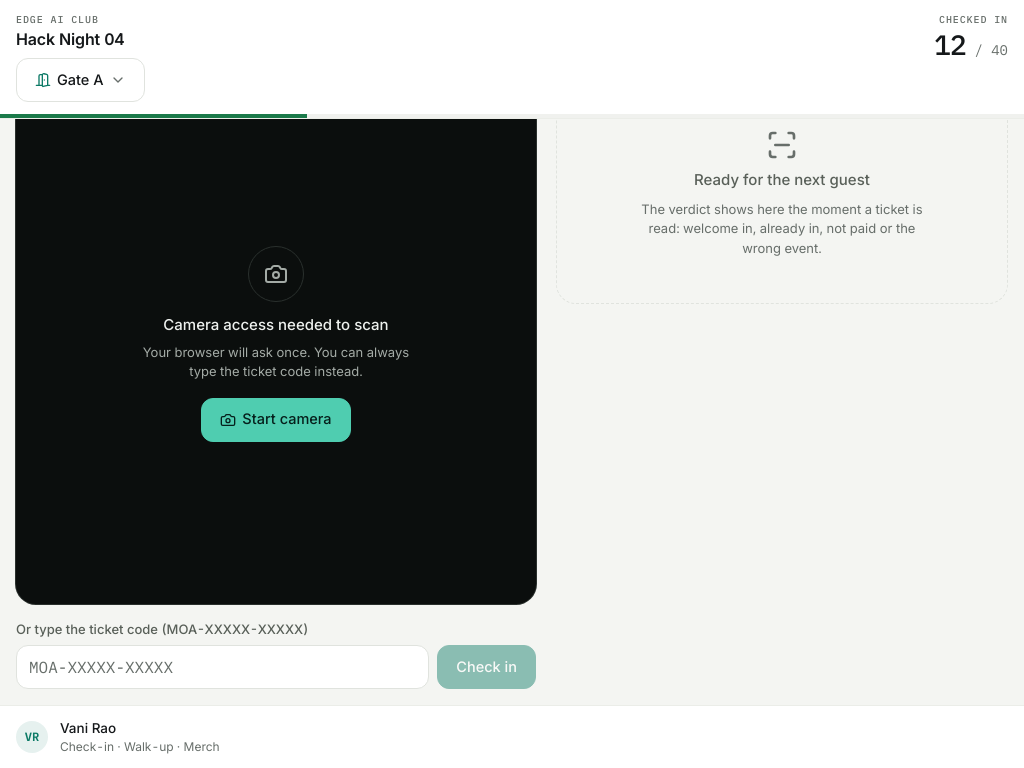
Test case: collecting a guest's number at the door › asks after the admission, without blocking it, when the event wants a number
(page scrolled)
Type "MOA-1" into the field labelled "Or type the ticket code (MOA-XXXXX-XXXXX)" at (223, 667), box [16,645,429,689]
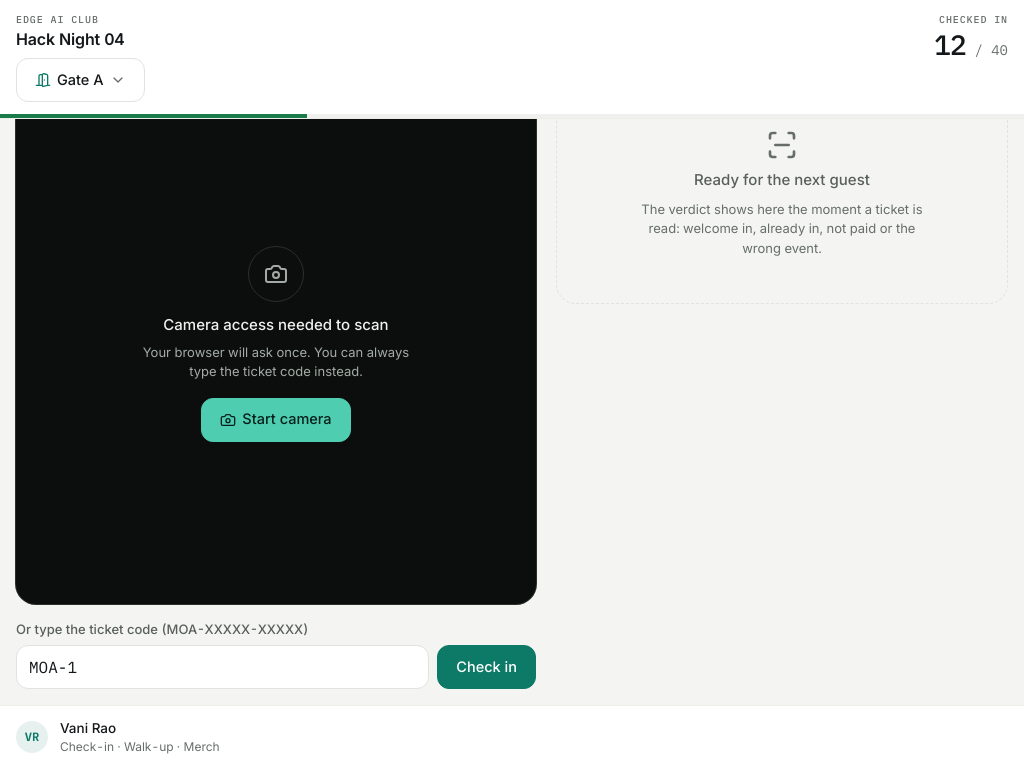
Click the button "Check in" at (487, 667), box [437,645,536,689]
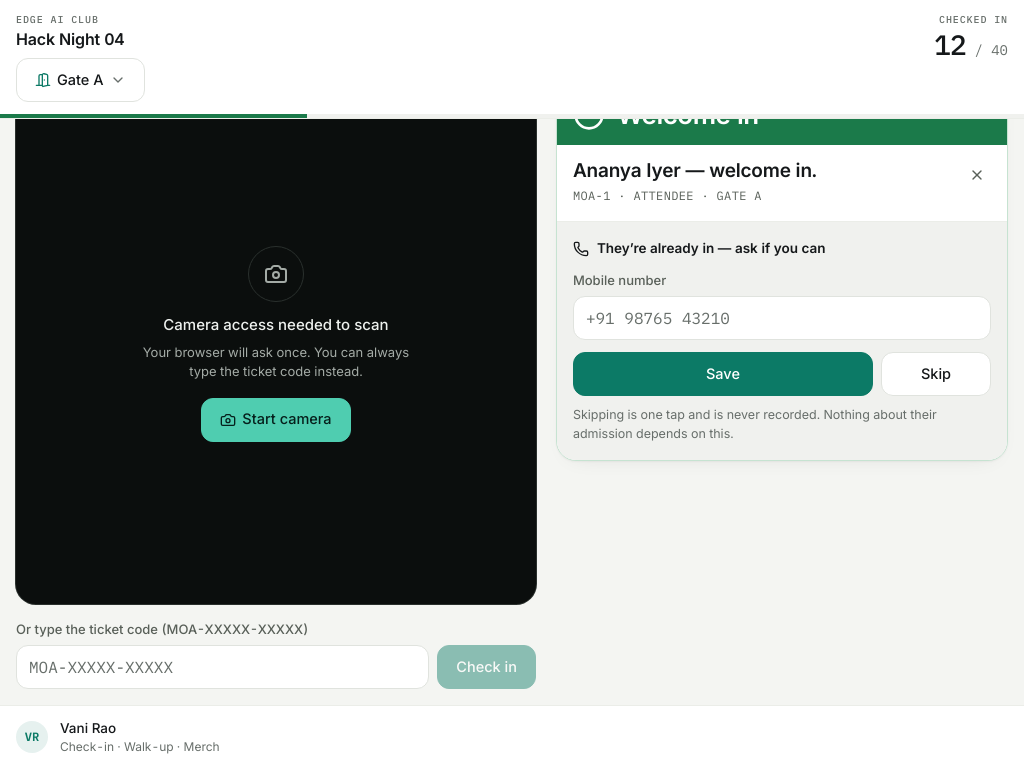
Expected: the text "They’re already in — ask if you can" is shown, [573,240,826,257]
Expected: the field labelled "Mobile number" is shown, [573,296,991,340]
Expected: the text "Skipping is one tap and is never recorded" is shown, [573,407,937,441]
